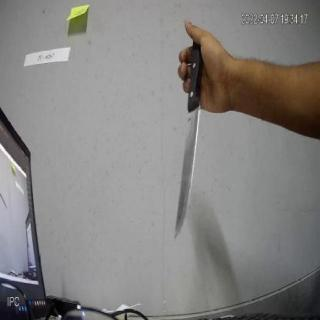knife: (174, 29, 212, 233)
